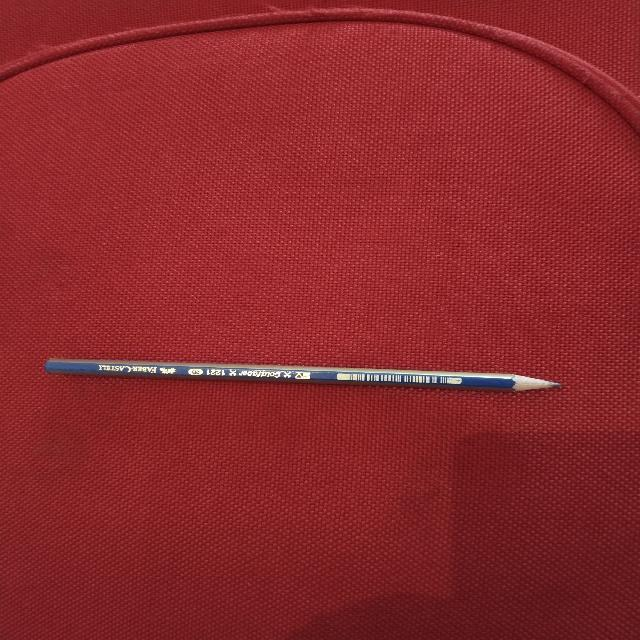pencil: (45, 359, 560, 390)
